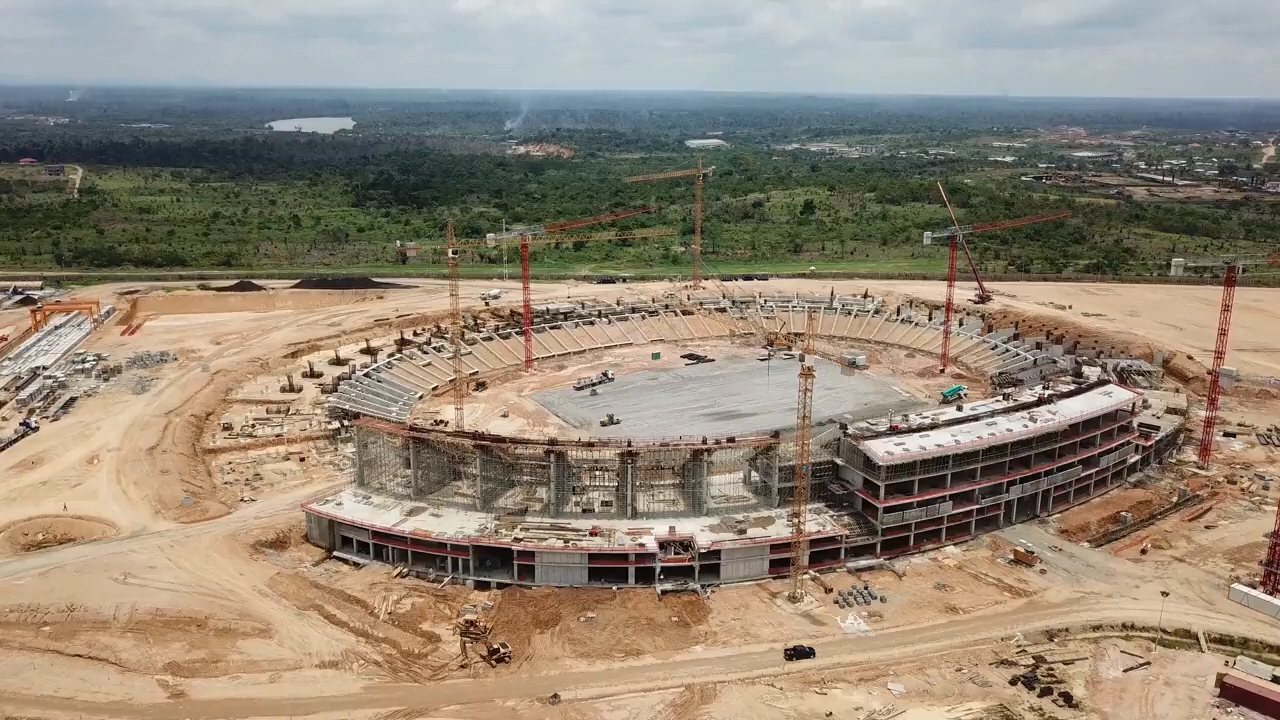ismakinesi: (457, 629, 525, 670), (454, 609, 498, 636)
kamyon: (573, 365, 620, 393)
kamyonet: (782, 641, 819, 665)
